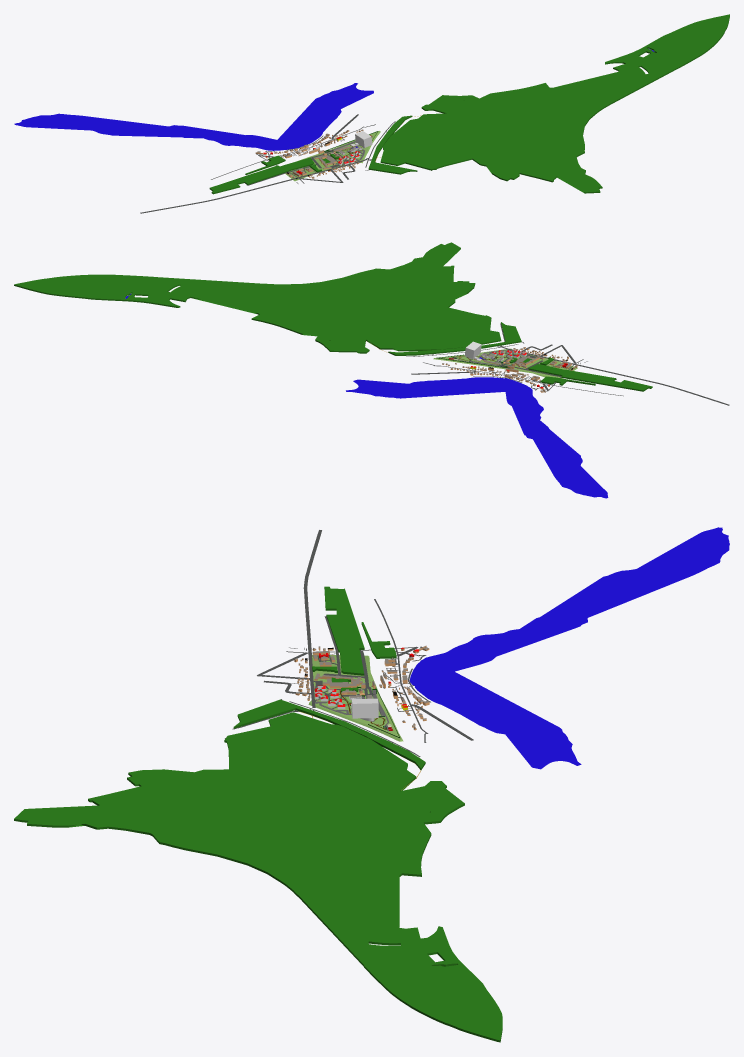
File: MapTemp02.fbx
3 views of the same model, one above another, from view 1: azimuth 30°, elevation 25°; view 2: azimuth 150°, elevation 25°; view 3: azimuth 270°, elevation 25° (orthographic). The views are drawn at different scales.
Visible parts, largest first — view 1: map.osm_forest, map.osm_water, map.osm_buildings, map.osm_roads_residential, Campus1Floor; view 2: map.osm_forest, map.osm_water, map.osm_buildings, Campus1Floor, map.osm_roads_residential; view 3: map.osm_forest, map.osm_water, map.osm_buildings, Campus1Floor, map.osm_roads_residential.
Part boxes in pixels (x1,y1,x2,y2): map.osm_forest: (209, 14, 729, 194); map.osm_water: (14, 49, 654, 150); map.osm_buildings: (255, 129, 363, 179); map.osm_roads_residential: (140, 114, 368, 213); Campus1Floor: (303, 131, 380, 170); map.osm_forest: (14, 242, 652, 391); map.osm_water: (125, 293, 608, 498); map.osm_buildings: (442, 347, 580, 392); Campus1Floor: (433, 348, 548, 373); map.osm_roads_residential: (411, 344, 729, 405); map.osm_forest: (14, 586, 502, 1042); map.osm_water: (409, 527, 729, 769); map.osm_buildings: (294, 645, 429, 730); Campus1Floor: (308, 670, 403, 741); map.osm_roads_residential: (257, 530, 473, 740).
Bounding box in the file's own units: 540462 × 11370 × 317356.
